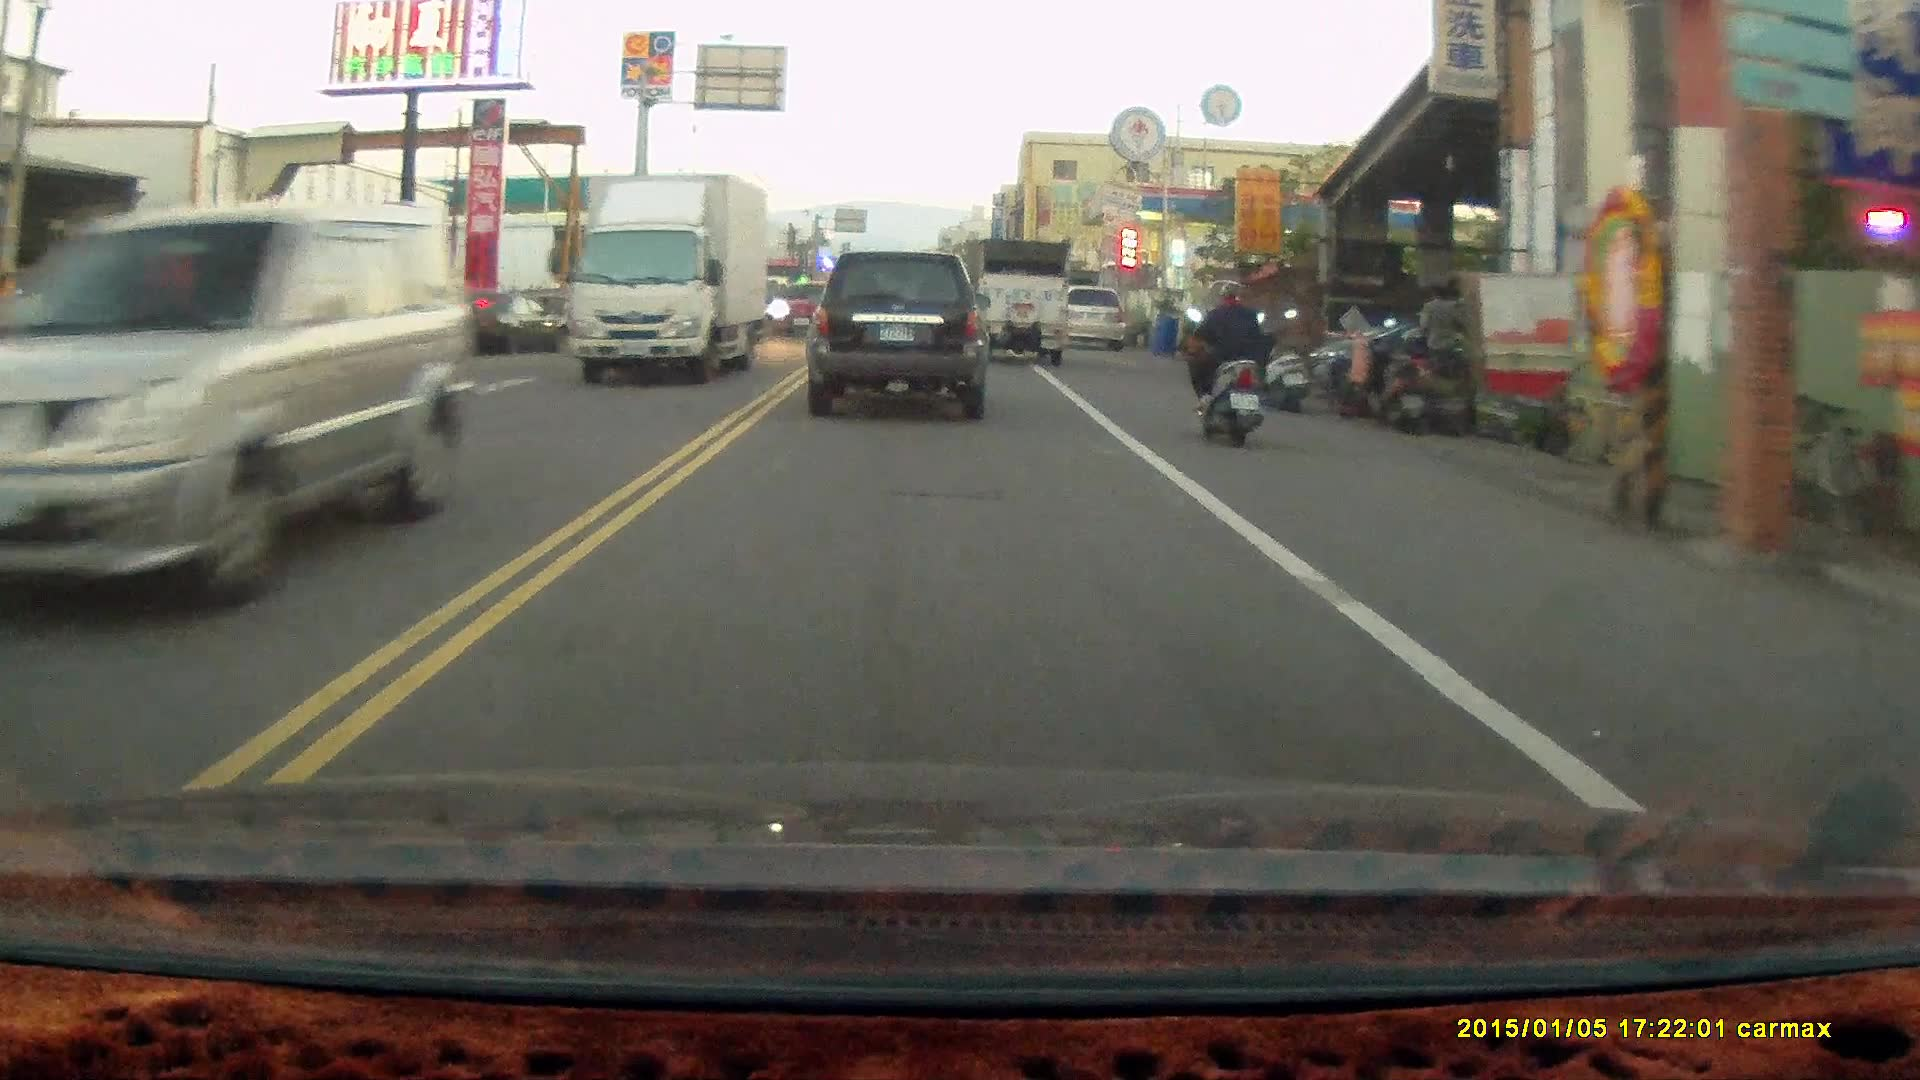pedestrian: (1415, 283, 1461, 411)
rider: (1181, 280, 1269, 450)
vehicle: (1, 199, 483, 599), (567, 173, 772, 389), (803, 250, 992, 424), (977, 237, 1070, 366)
